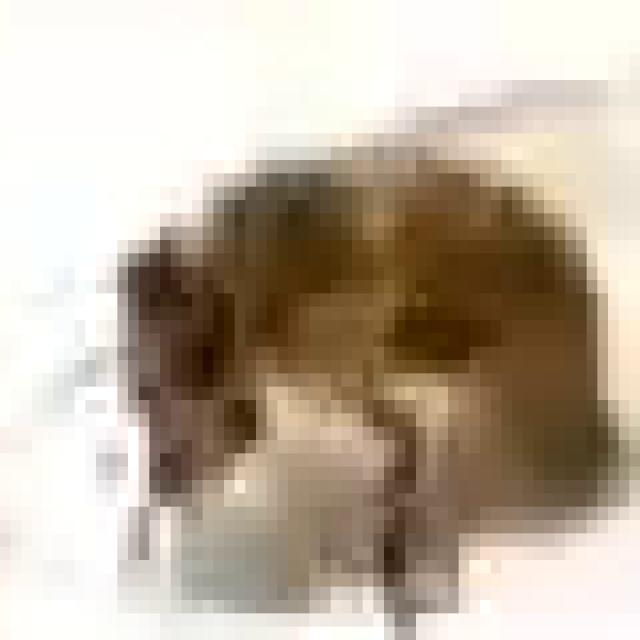honeybee: (118, 120, 572, 600)
